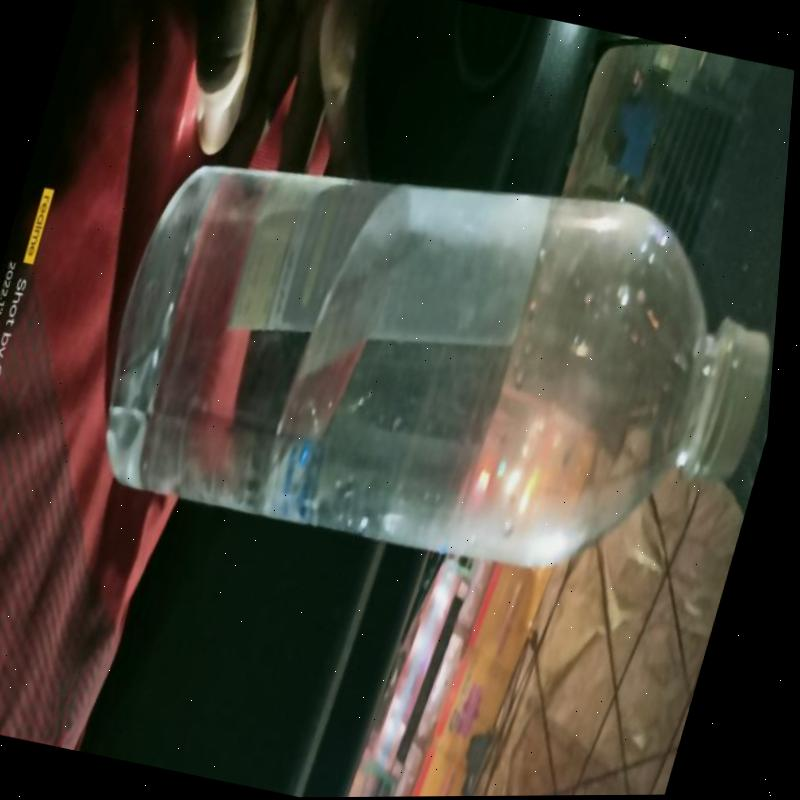botella: (55, 94, 794, 649)
